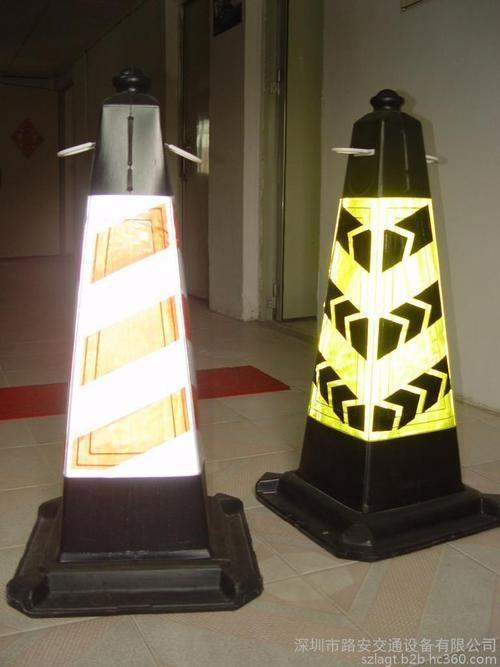cone_barrel: (270, 88, 487, 551), (36, 75, 221, 593)
